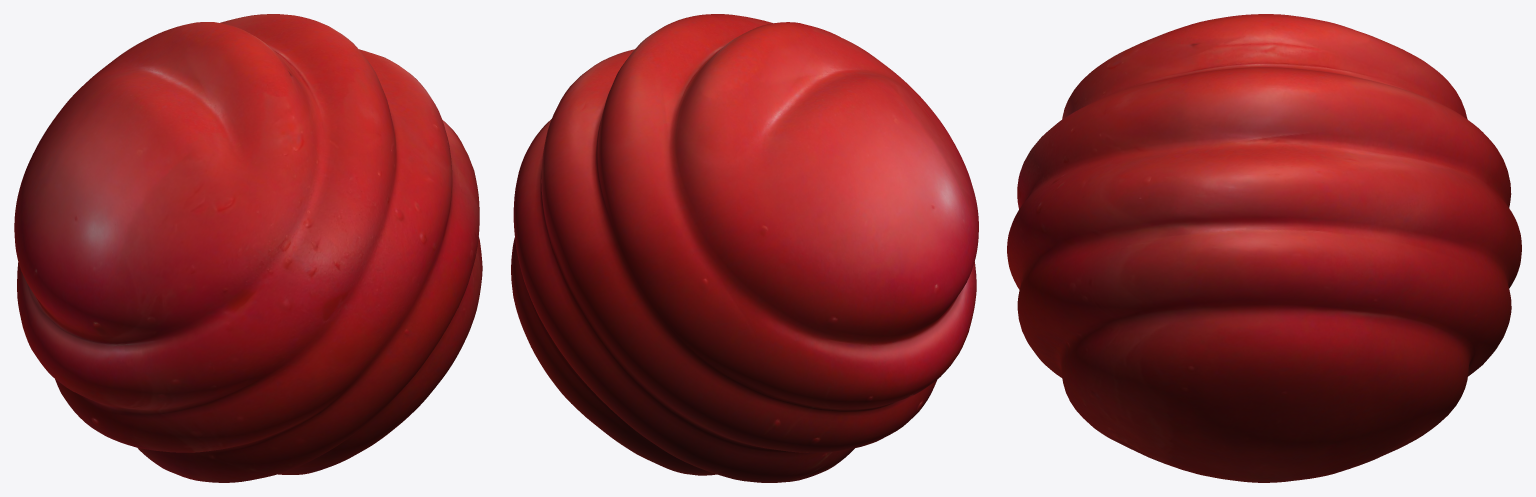
The picture shows the model from 3 angles, left to right: view 1: azimuth 30°, elevation 25°; view 2: azimuth 150°, elevation 25°; view 3: azimuth 270°, elevation 25°; orthographic projection. The views are drawn at different scales.
Parts seen in each view (by area): view 1: meshes[0]; view 2: meshes[0]; view 3: meshes[0].
Part boxes in pixels (left/top/right/bottom): meshes[0]: left=14, top=14, right=482, bottom=482; meshes[0]: left=511, top=14, right=978, bottom=482; meshes[0]: left=1007, top=14, right=1521, bottom=482.
Bounding box in the file's own units: 1.94 × 1.94 × 2.
1 material, 1 textured.
